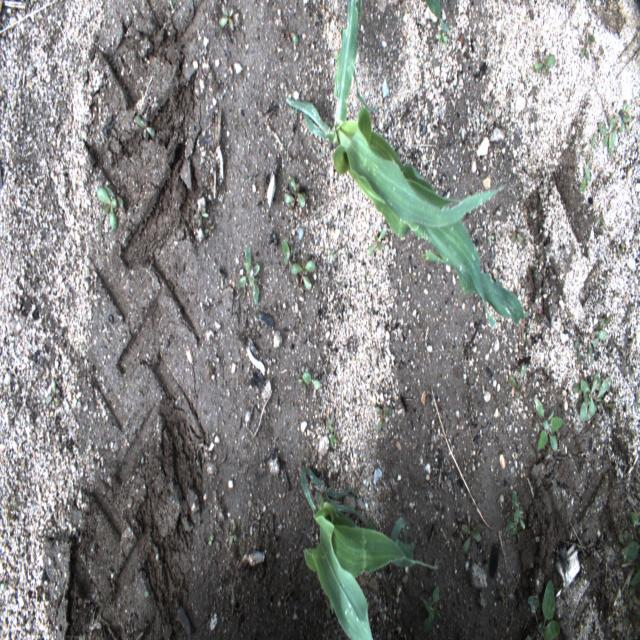crop: (282, 1, 536, 324), (296, 466, 436, 638)
weed: (528, 382, 566, 460), (526, 573, 570, 636), (276, 232, 318, 295), (575, 374, 612, 436), (616, 498, 636, 602), (90, 183, 119, 238), (235, 245, 261, 303), (596, 112, 624, 159), (451, 518, 485, 554), (530, 46, 559, 84), (506, 488, 528, 533), (281, 172, 311, 201), (424, 1, 445, 42), (217, 7, 243, 35), (131, 112, 159, 137)
